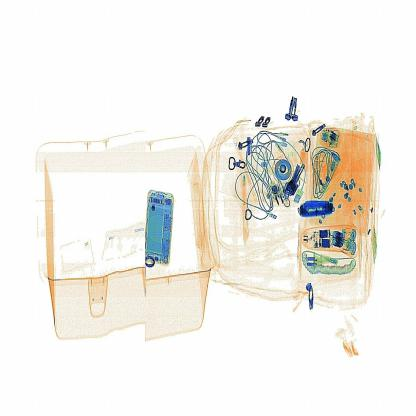scissors: (290, 192, 346, 222)
